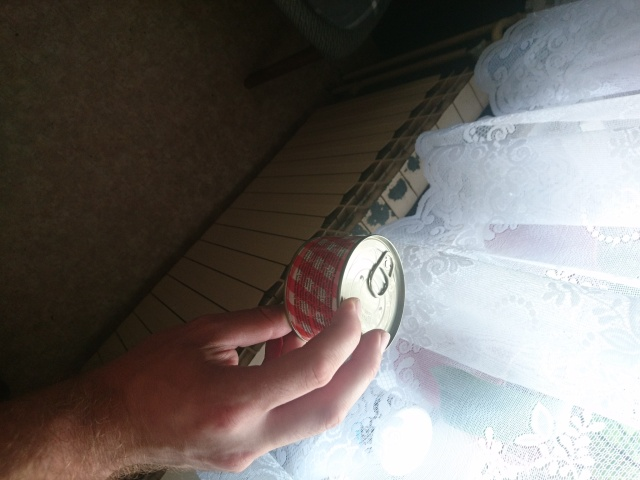Podravka Luncheon Meat 150g: (280, 231, 409, 363)
